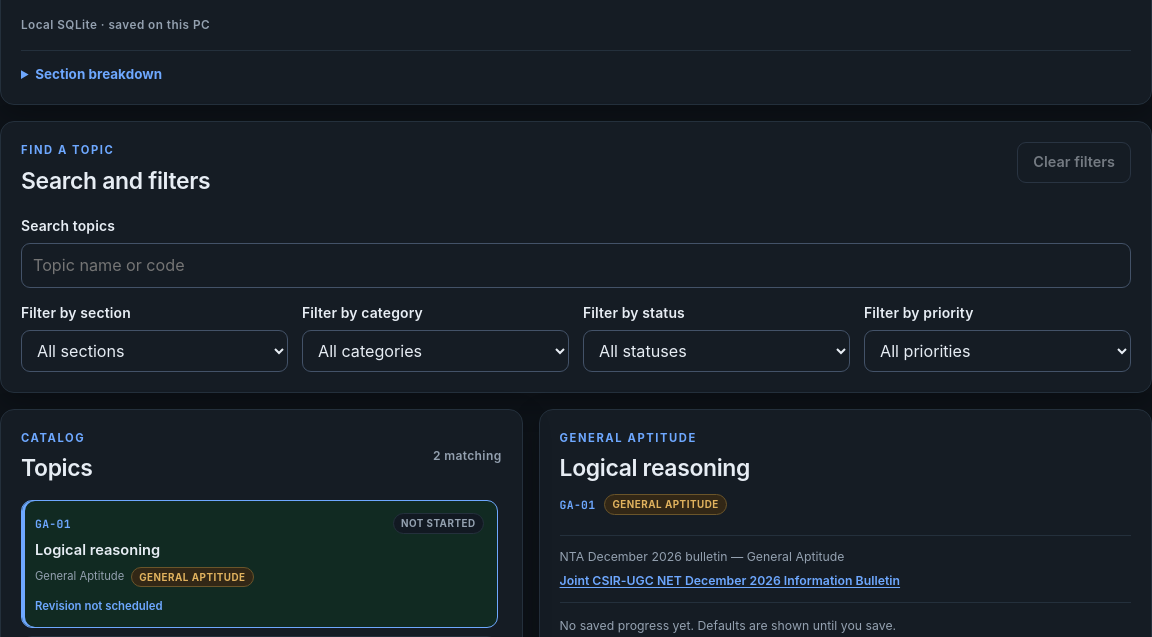
Test: SyllabusScreen › passes section and search filters to the backend search command
(page scrolled)
Expected: the button "GA-01" is shown, [21,500,498,628]
Select "Mathematical Methods of Physics" in the dropdown labelled "Filter by section" at x=154, y=350, box [21,330,288,372]
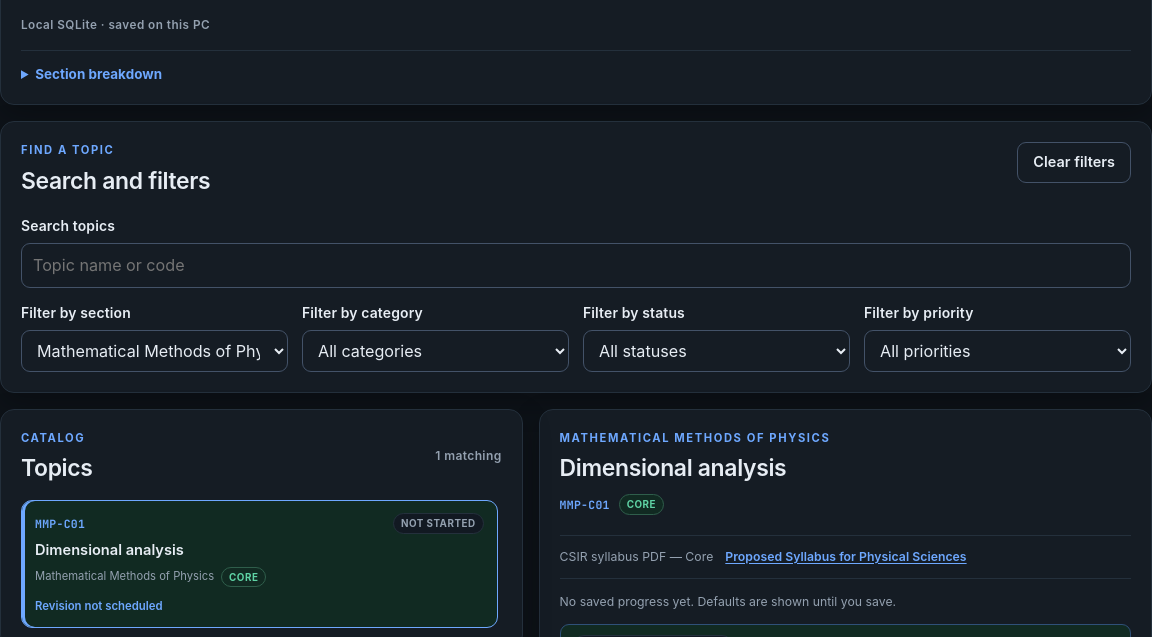
Expected: the button "MMP-C01" is shown, [21,500,498,628]
Expected: the button "GA-01" is gone
Type "quantum" into the search field labelled "Search topics".
click(576, 265); type("quantum")  # box [21,243,1131,288]
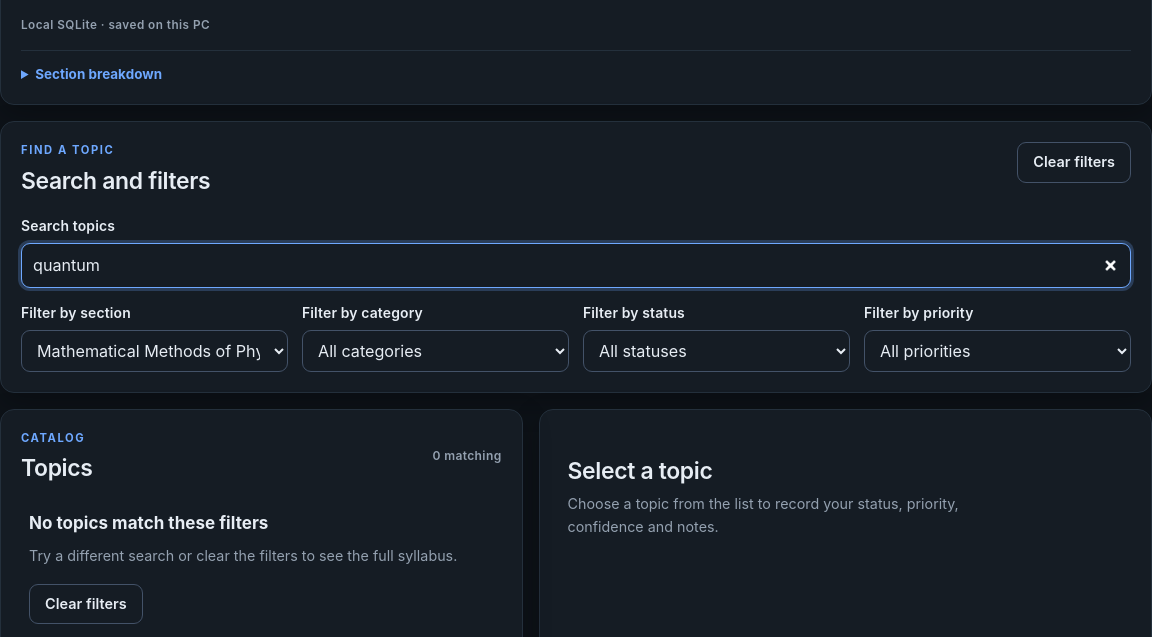
Expected: the text "No topics match these filters" is shown, [29,510,268,537]
